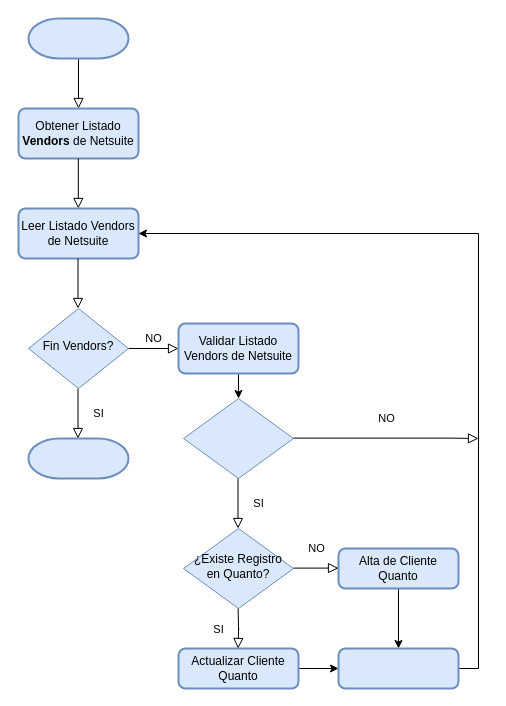
Some shapes in this 506 by 706 pixel diagram are drawn without their labels. The shapes that lost their labels are listed below. From the top down, each one's box as (x1, y1, x2, y2) in pixels, then its label:
(27, 17, 129, 59): Inicio
(27, 437, 129, 479): Fin
(182, 398, 294, 478): ¿Registro Valido?
(337, 647, 459, 689): Actualizar Vendor en Netsuite
